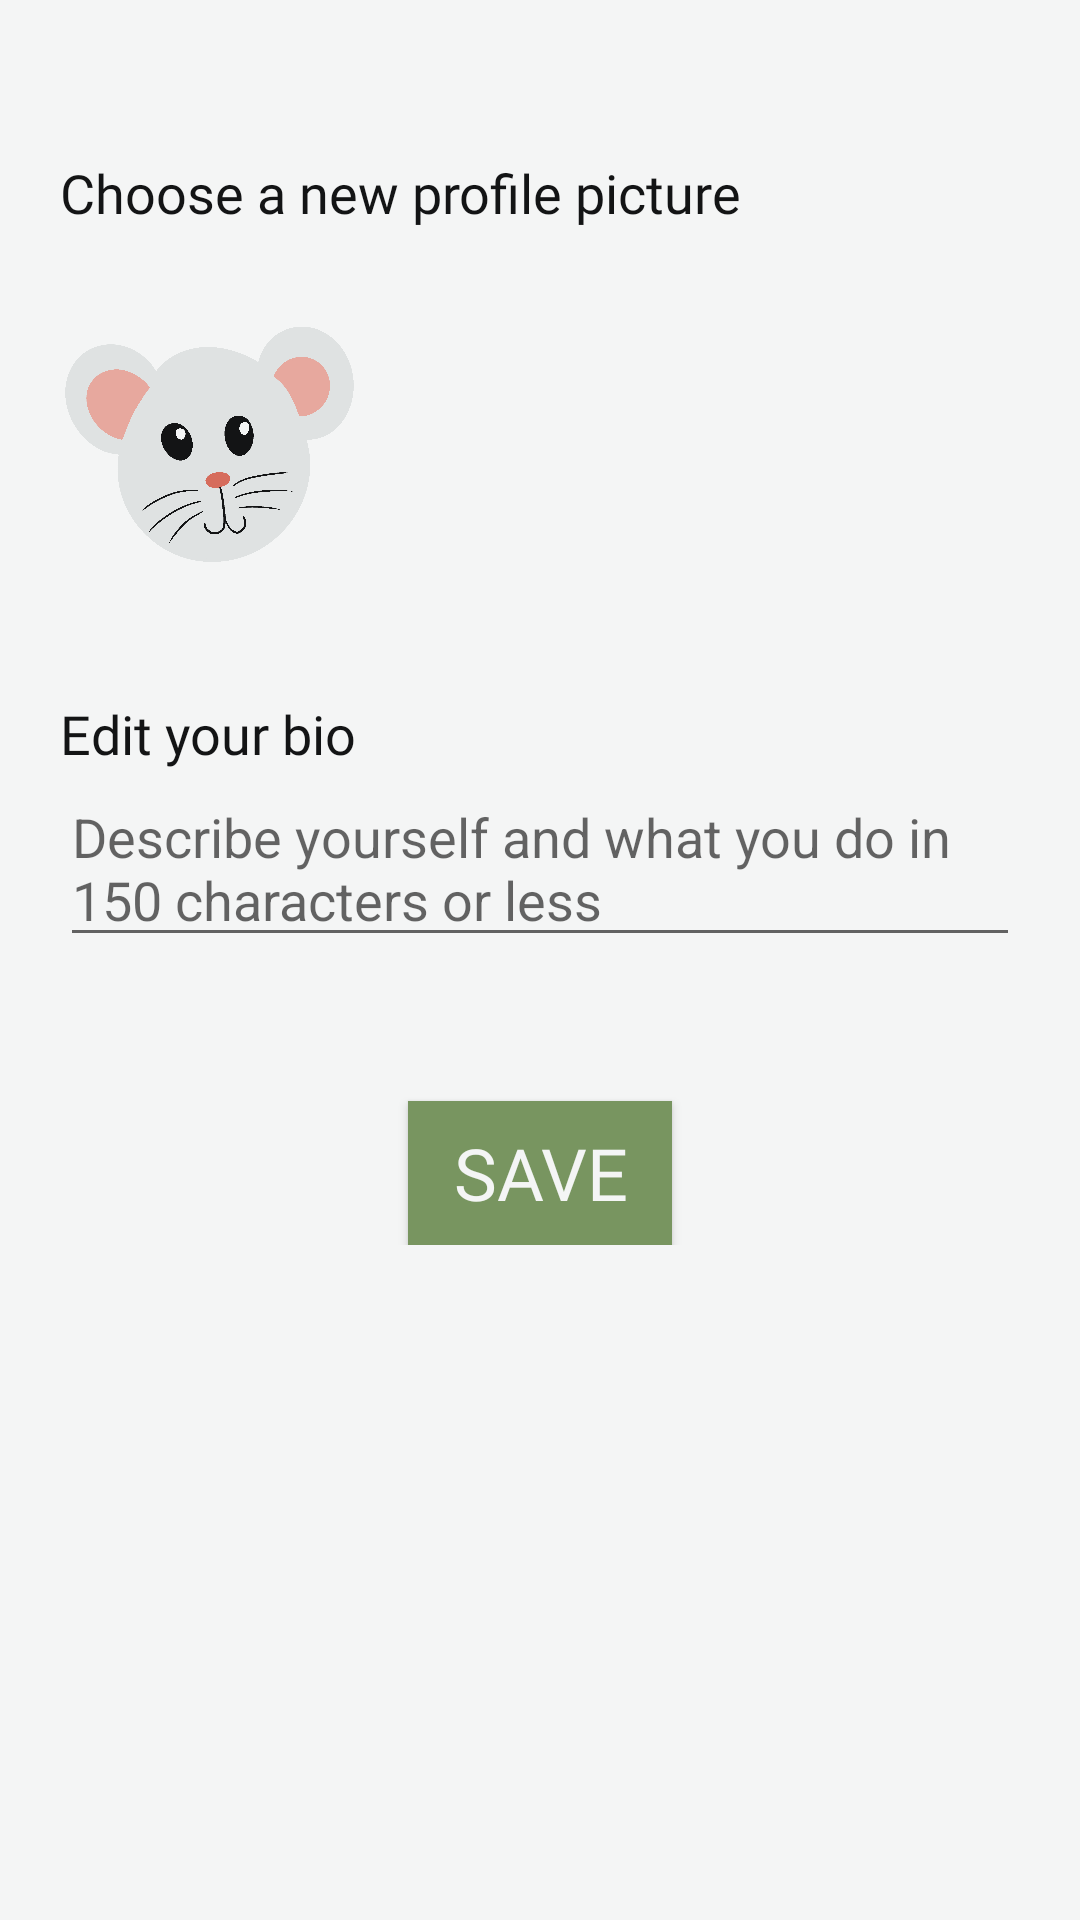

Icons on this 1080px x 1920px Android screen, each with the point to tap as [x,y]:
add profile picture button: [208,450]
